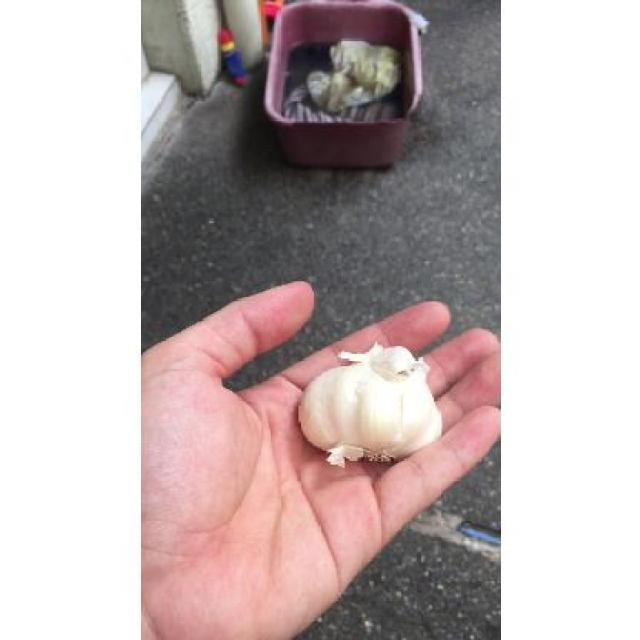Garlic: (286, 337, 455, 472)
